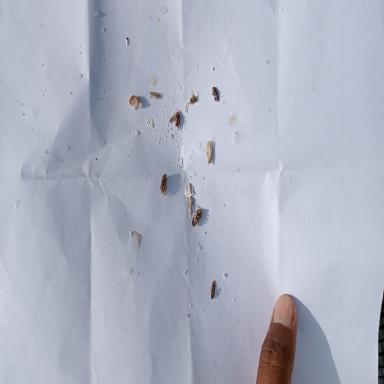pbw: (204, 136, 212, 166), (167, 108, 178, 124), (149, 92, 166, 100), (187, 196, 194, 213), (210, 280, 216, 299), (189, 90, 196, 104)
